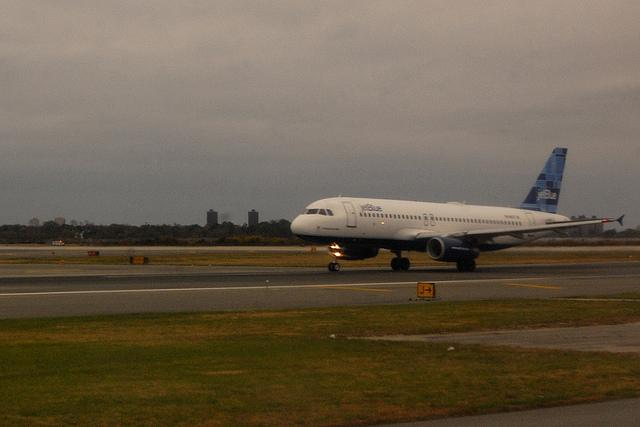airplane: (288, 145, 625, 274)
